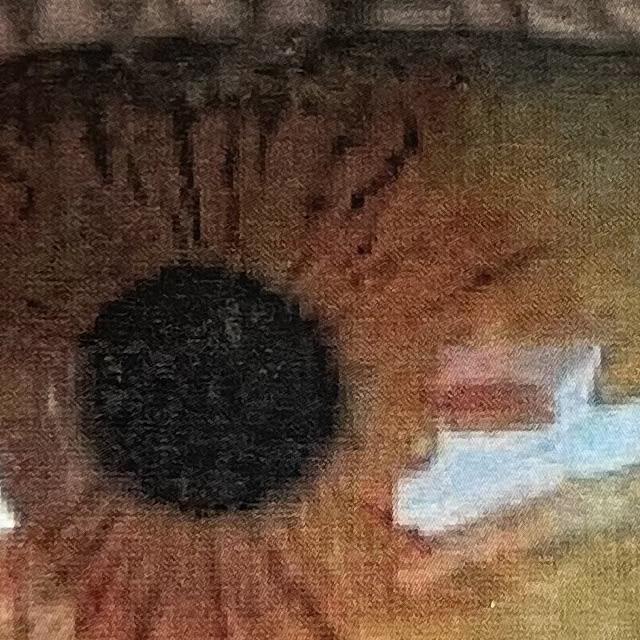eye: (0, 4, 640, 640)
iris: (0, 19, 640, 640)
